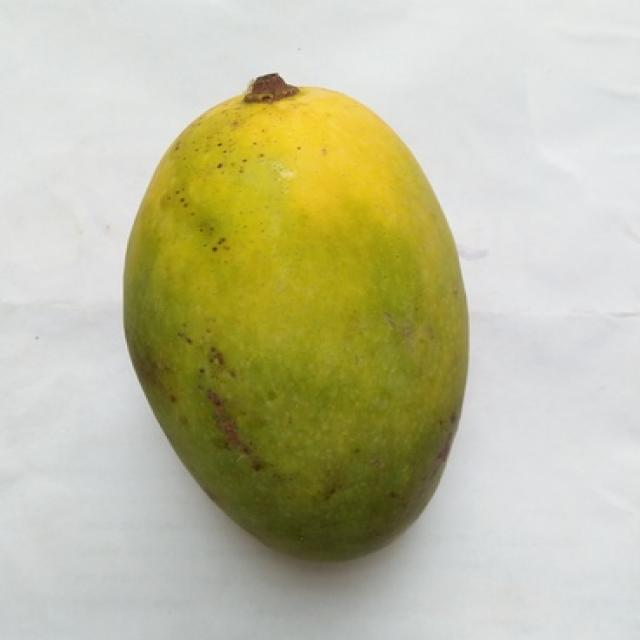Mango: (123, 74, 466, 559)
